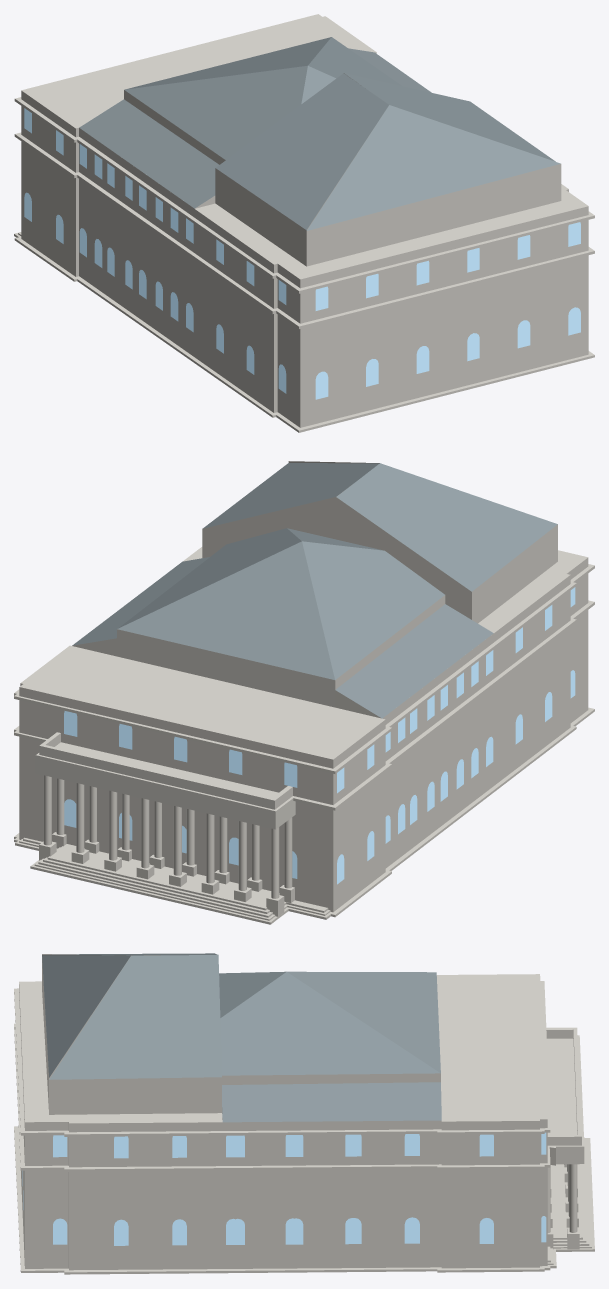
3 views of the same model, one above another, from view 1: azimuth 30°, elevation 25°; view 2: azimuth 150°, elevation 25°; view 3: azimuth 270°, elevation 25° (orthographic). The views are drawn at different scales.
Parts seen in each view (by area): view 1: stone, roof, window; view 2: stone, roof, window; view 3: stone, roof, window.
Boxes of the visible parts, <box> form: stone: <box>14,14,594,432</box>; roof: <box>79,37,560,230</box>; window: <box>24,108,580,399</box>; stone: <box>14,461,594,924</box>; roof: <box>72,463,557,718</box>; window: <box>64,587,575,884</box>; stone: <box>14,954,594,1274</box>; roof: <box>42,953,441,1122</box>; window: <box>22,1132,546,1245</box>.
Bounding box in the file's own units: 37.58 × 28 × 60.11.
